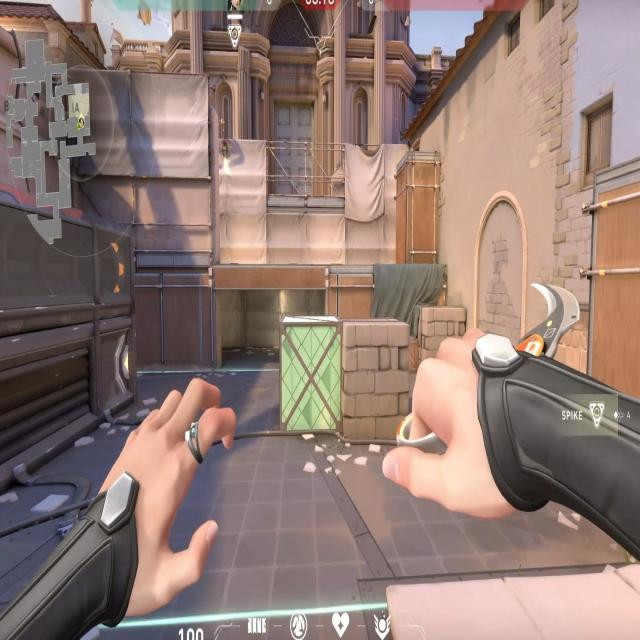A_Heaven_Box: (392, 140, 444, 271)
A_Heaven_Wall: (67, 57, 231, 262)
A_Hell: (203, 256, 333, 373)
A_Site_Box: (275, 304, 423, 458)
